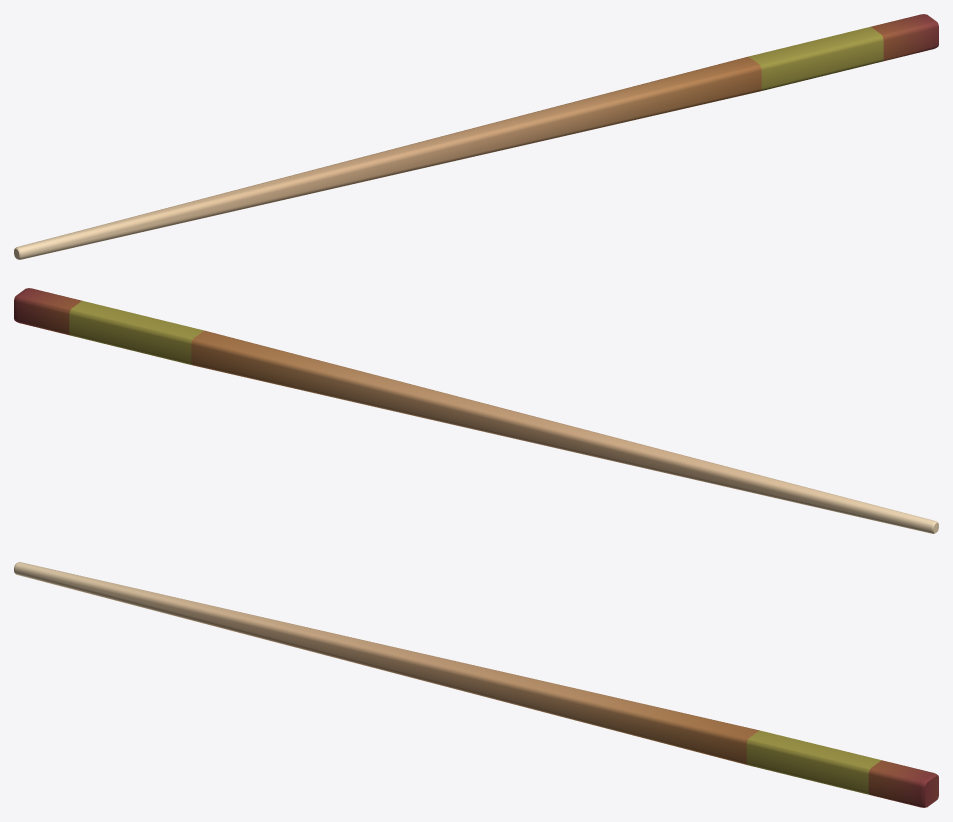
File: chopstick.fbx
3 views of the same model, one above another, from view 1: azimuth 30°, elevation 25°; view 2: azimuth 150°, elevation 25°; view 3: azimuth 330°, elevation 25° (orthographic).
Visible parts, largest first — view 1: Chopstick; view 2: Chopstick; view 3: Chopstick.
Part boxes in pixels (<box>): Chopstick: <box>14,14,938,259</box>; Chopstick: <box>14,288,938,533</box>; Chopstick: <box>14,562,938,807</box>.
Bounding box in the file's own units: 11.04 × 393 × 11.04.
